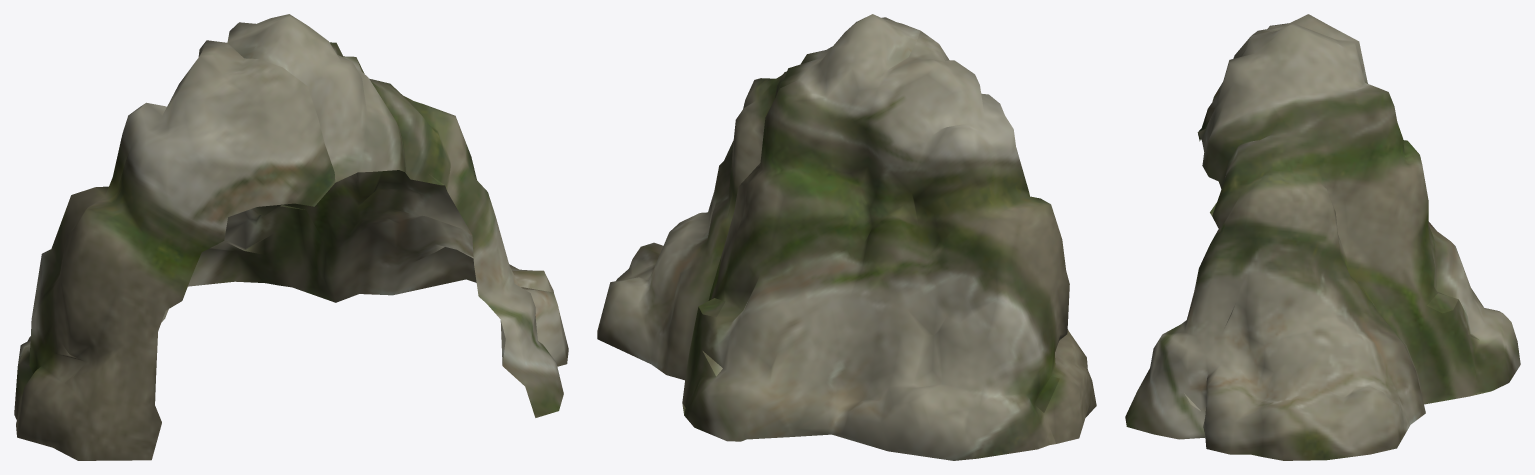
The model's file is ss_shanti_2.FBX.
3 views of the same model, side by side, from view 1: azimuth 30°, elevation 25°; view 2: azimuth 150°, elevation 25°; view 3: azimuth 270°, elevation 25° (orthographic). The views are drawn at different scales.
Visible parts, largest first — view 1: ss_shanti_2; view 2: ss_shanti_2; view 3: ss_shanti_2.
Part boxes in pixels (bbox=[...]): ss_shanti_2: bbox=[14, 14, 568, 460]; ss_shanti_2: bbox=[597, 14, 1096, 460]; ss_shanti_2: bbox=[1125, 14, 1520, 460].
Bounding box in the file's own units: 136 × 96.25 × 103.
